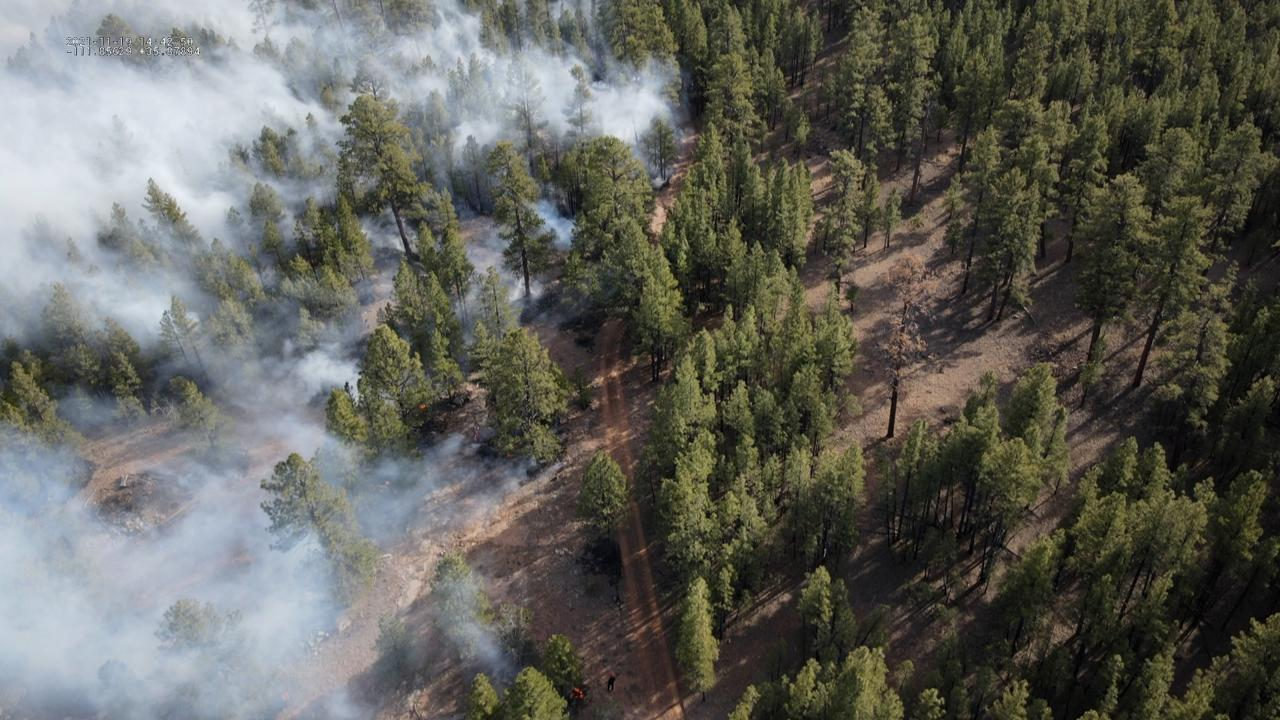fire: (570, 687, 584, 699), (418, 403, 426, 409)
smoke: (0, 0, 689, 720)
